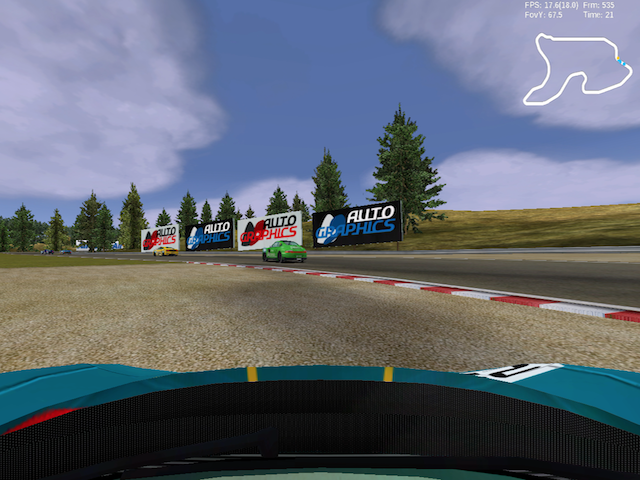Boxer96: (262, 240, 308, 263)
Cavallo360: (153, 247, 179, 258)
